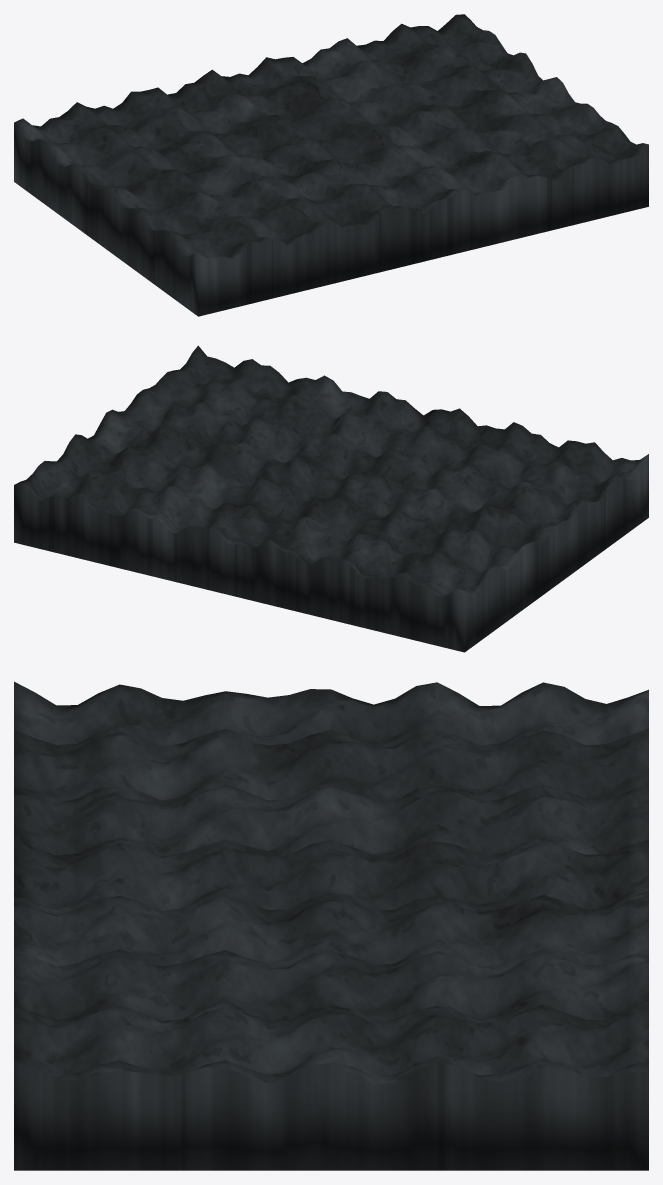
Rendered from PROJECT_Z_VR26_03_Basalt_Slab_Broad.glb.
3 renders of one model, top to bottom at view 1: azimuth 30°, elevation 25°; view 2: azimuth 150°, elevation 25°; view 3: azimuth 270°, elevation 25°, orthographic. The views are drawn at different scales.
Visible parts, largest first — view 1: 03_Basalt_Slab_Broad__RENDER_Broad_Basalt_Slab; view 2: 03_Basalt_Slab_Broad__RENDER_Broad_Basalt_Slab; view 3: 03_Basalt_Slab_Broad__RENDER_Broad_Basalt_Slab.
Boxes of the visible parts, bbox=[...] form: 03_Basalt_Slab_Broad__RENDER_Broad_Basalt_Slab: bbox=[14, 14, 648, 316]; 03_Basalt_Slab_Broad__RENDER_Broad_Basalt_Slab: bbox=[14, 345, 648, 652]; 03_Basalt_Slab_Broad__RENDER_Broad_Basalt_Slab: bbox=[14, 681, 648, 1170].
Bounding box in the file's own units: 2.4 × 0.328 × 1.7.
Materials: 1 (1 with a texture image).
